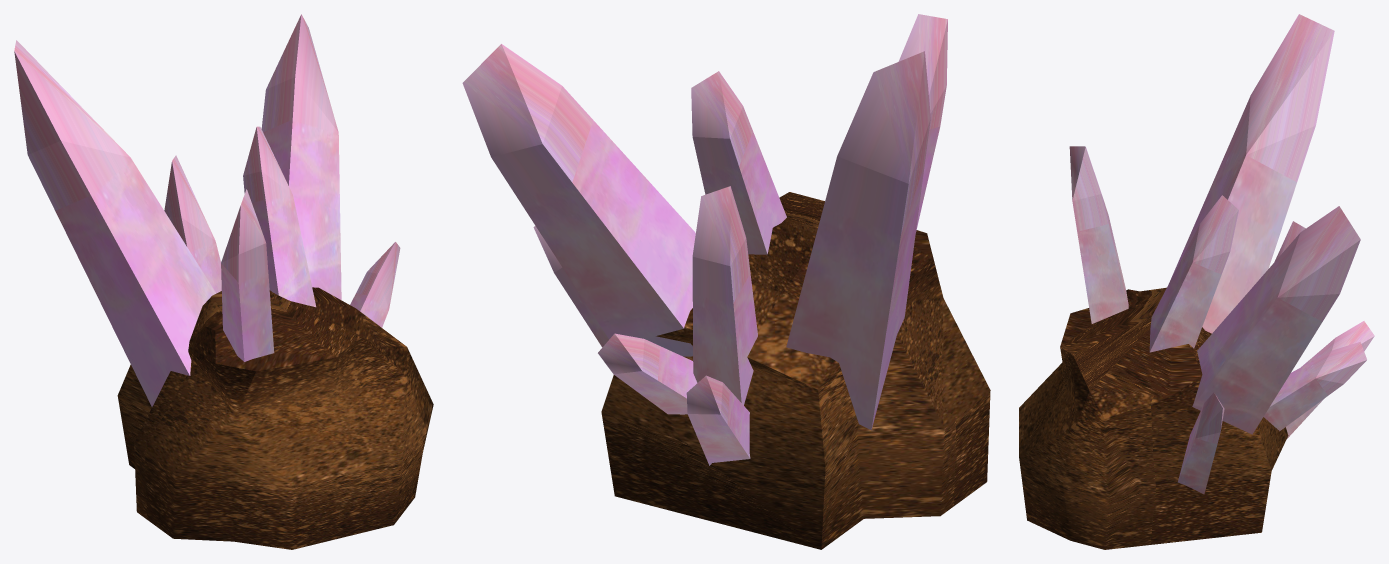
Rendered from Medium_Rock_Crystals.fbx.
The picture shows the model from 3 angles, left to right: view 1: azimuth 30°, elevation 25°; view 2: azimuth 150°, elevation 25°; view 3: azimuth 270°, elevation 25°; orthographic projection. The views are drawn at different scales.
Parts seen in each view (by area): view 1: Rock_Medium_forCrystals, Crystal_34, Crystal_32, Crystal_33, Crystal_38, Crystal_37, Crystal_39; view 2: Rock_Medium_forCrystals, Crystal_32, Crystal_34, Crystal_37, Crystal_38, Crystal_35, Crystal_36, Crystal_33, Crystal_39; view 3: Rock_Medium_forCrystals, Crystal_34, Crystal_32, Crystal_38, Crystal_33, Crystal_35, Crystal_39, Crystal_36.
Part boxes in pixels (x1=…): Rock_Medium_forCrystals: x1=117, y1=287, x2=433, y2=549; Crystal_34: x1=14, y1=40, x2=216, y2=406; Crystal_32: x1=261, y1=14, x2=341, y2=300; Crystal_33: x1=221, y1=189, x2=274, y2=361; Crystal_38: x1=243, y1=126, x2=316, y2=307; Crystal_37: x1=164, y1=155, x2=221, y2=293; Crystal_39: x1=350, y1=242, x2=400, y2=327; Rock_Medium_forCrystals: x1=601, y1=192, x2=990, y2=549; Crystal_32: x1=462, y1=44, x2=695, y2=356; Crystal_34: x1=786, y1=51, x2=930, y2=430; Crystal_37: x1=692, y1=186, x2=757, y2=405; Crystal_38: x1=691, y1=71, x2=786, y2=254; Crystal_35: x1=598, y1=333, x2=697, y2=414; Crystal_36: x1=686, y1=375, x2=750, y2=465; Crystal_33: x1=898, y1=14, x2=947, y2=231; Crystal_39: x1=533, y1=226, x2=608, y2=347; Rock_Medium_forCrystals: x1=1019, y1=287, x2=1288, y2=549; Crystal_34: x1=1170, y1=14, x2=1334, y2=333; Crystal_32: x1=1192, y1=206, x2=1360, y2=434; Crystal_38: x1=1149, y1=195, x2=1238, y2=352; Crystal_33: x1=1069, y1=146, x2=1128, y2=323; Crystal_35: x1=1263, y1=341, x2=1366, y2=431; Crystal_39: x1=1177, y1=392, x2=1224, y2=494; Crystal_36: x1=1286, y1=321, x2=1374, y2=438.
Size of the model in its own units: 2.37 by 2.79 by 2.25.
